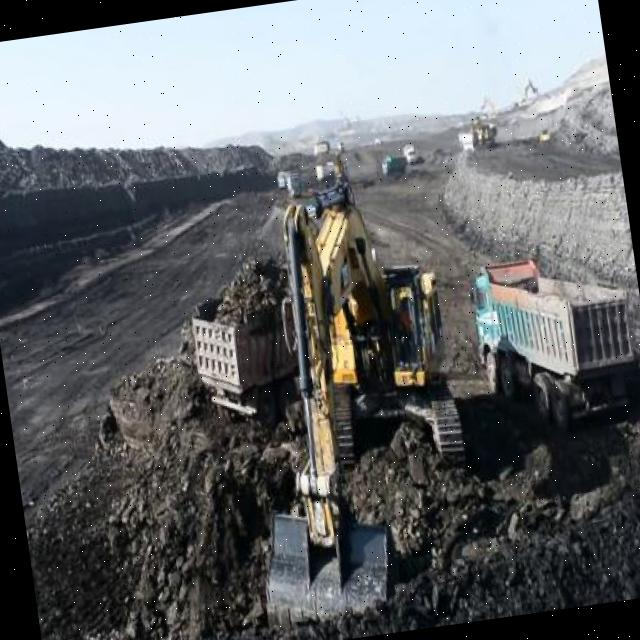Dump Truck: (465, 244, 640, 434), (182, 260, 330, 435)
Excavator: (205, 151, 488, 638)
